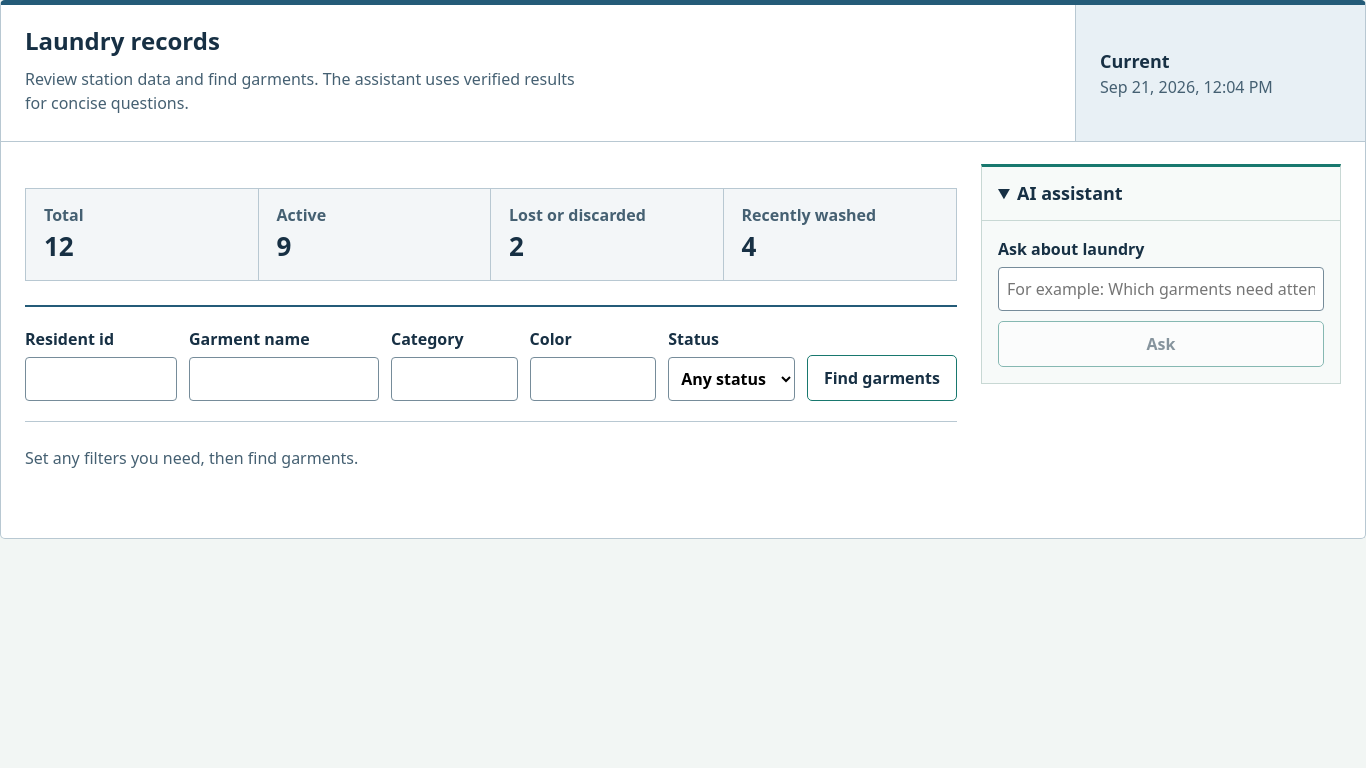
Test: rejects malformed assistant result envelopes without rendering unverified prose
Check: the text "12" is shown, box [44,228,74,264]
Type "Summary?" into the field labelled "Ask about laundry" at (1161, 289), box [998,267,1324,311]
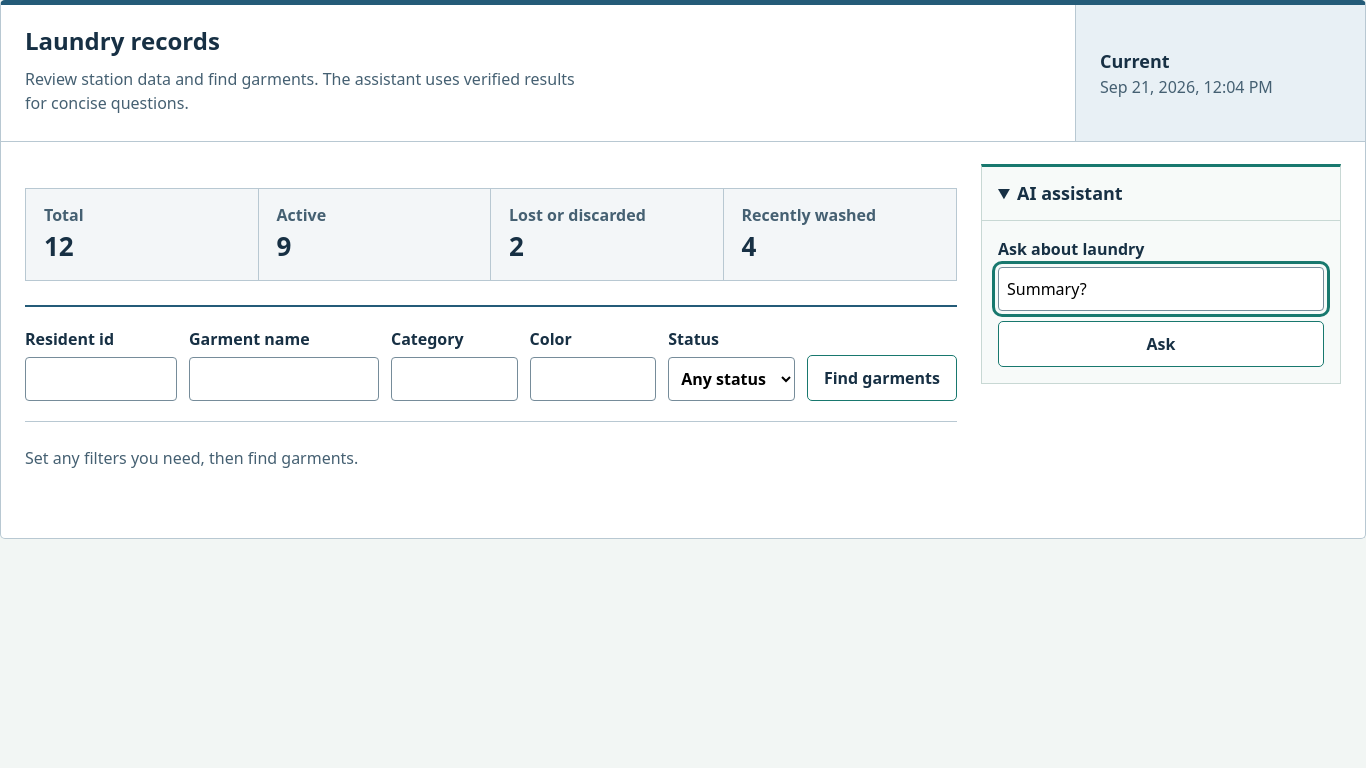
Click the button "Ask" at (1161, 344), box [998,321,1324,367]
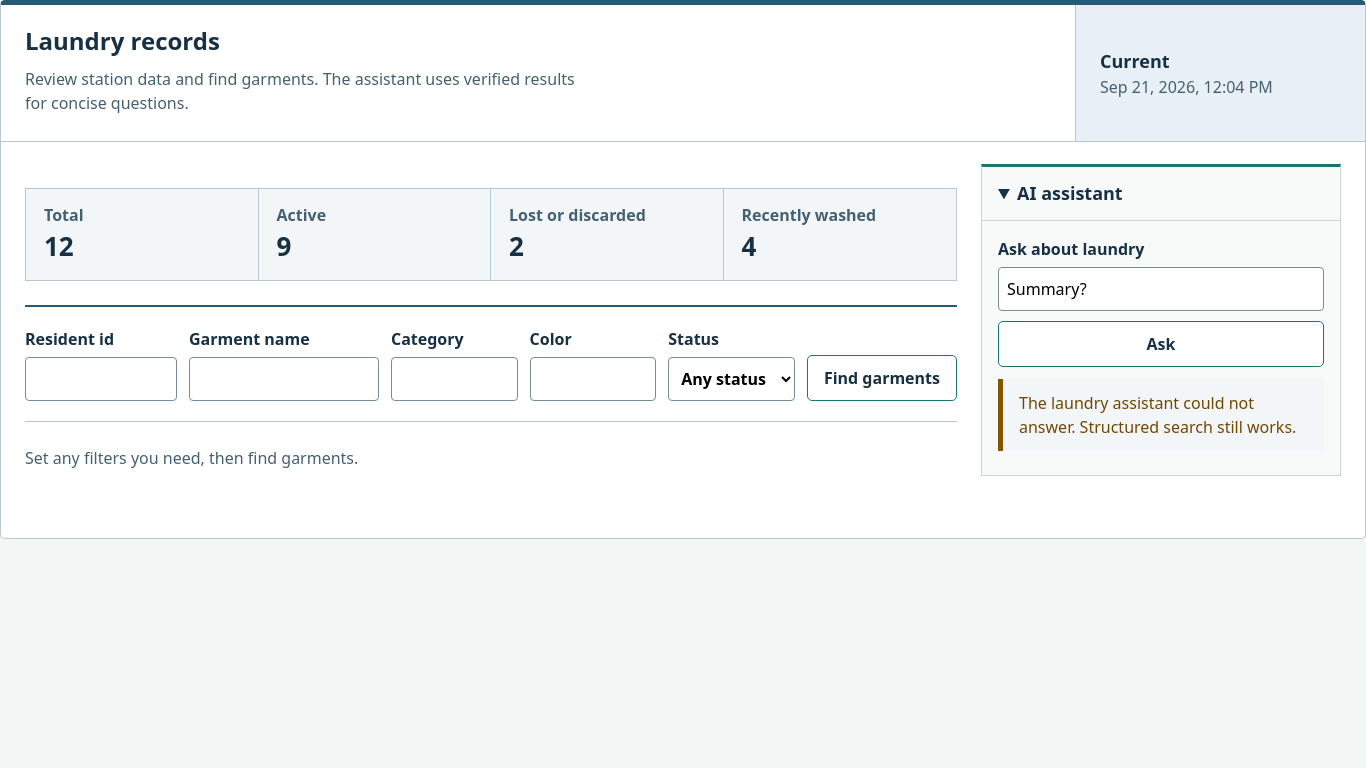
Check: the text "The laundry assistant could not answer. Structured search still works." is shown, box [998,379,1324,451]
